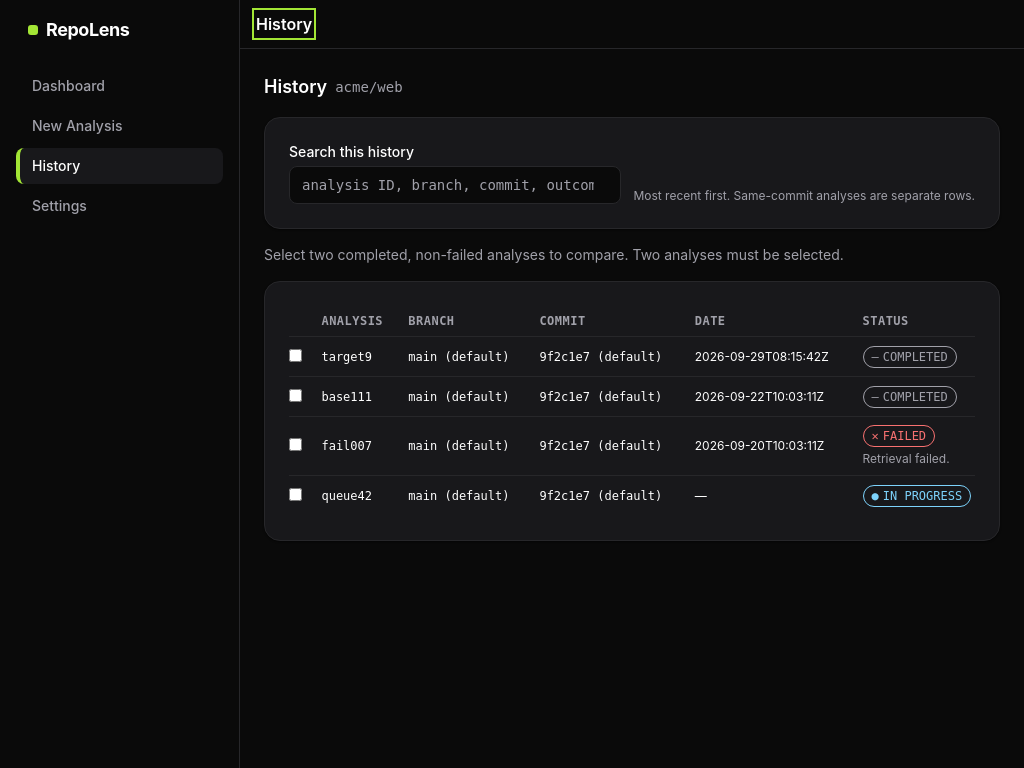
Test case: History page › searches within the loaded history
The width and height of the screenshot is (1024, 768).
Expected: the text "acme/web" is shown, [335,77,403,97]
Type "fail007" into the search field labelled "Search this history" at (455, 185), box [289,166,621,204]
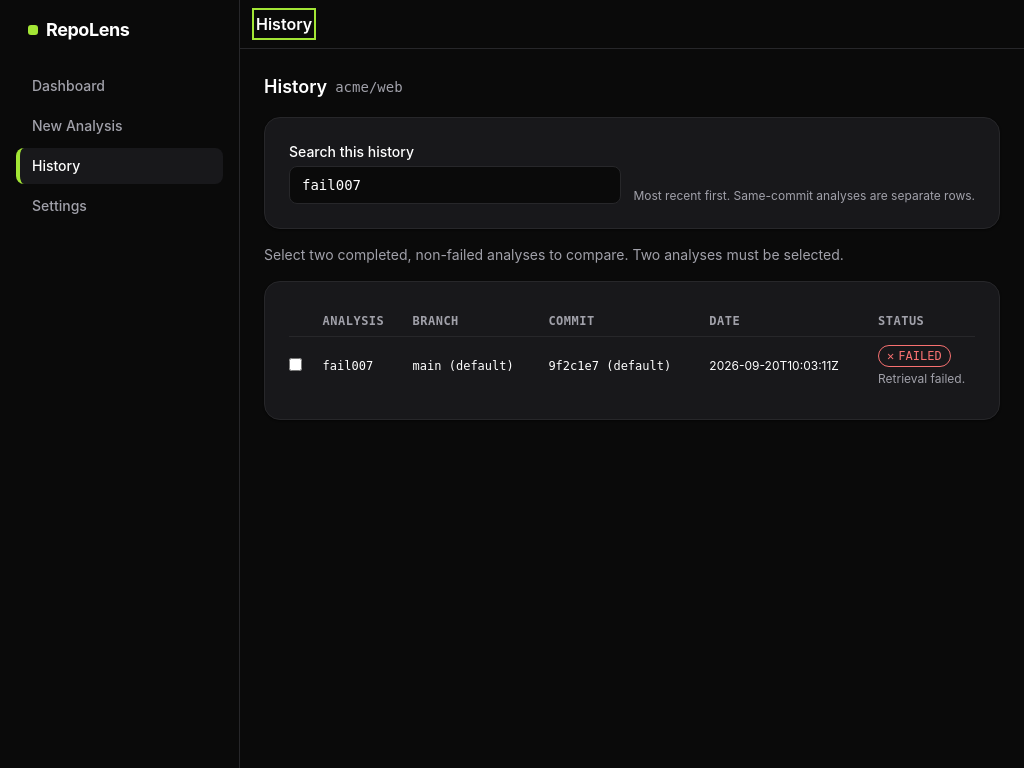
Expected: the text "fail007" is shown, [323,337,413,395]
Now the text "target9" is gone
